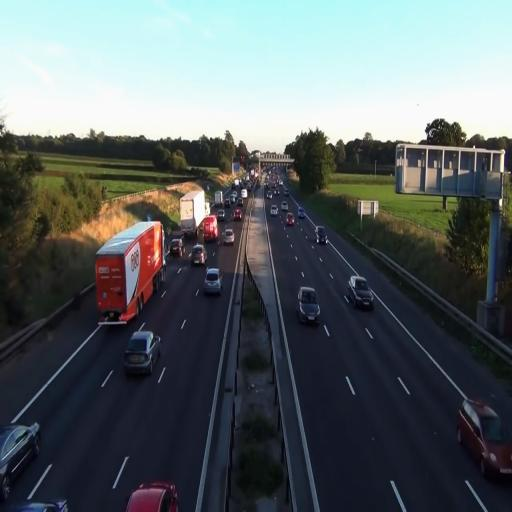vehicle: (96, 218, 166, 326), (95, 218, 164, 326), (457, 395, 512, 481), (0, 420, 41, 502), (124, 478, 178, 512), (123, 329, 160, 376), (348, 276, 374, 312), (297, 286, 321, 324), (204, 266, 222, 296), (190, 243, 207, 267), (221, 226, 235, 245), (316, 226, 327, 245), (234, 206, 242, 220)
